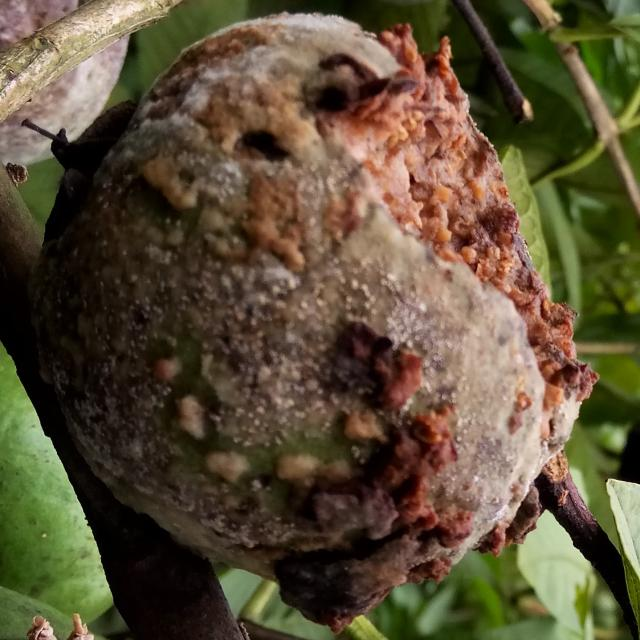Phytopthora: (32, 14, 595, 629)
